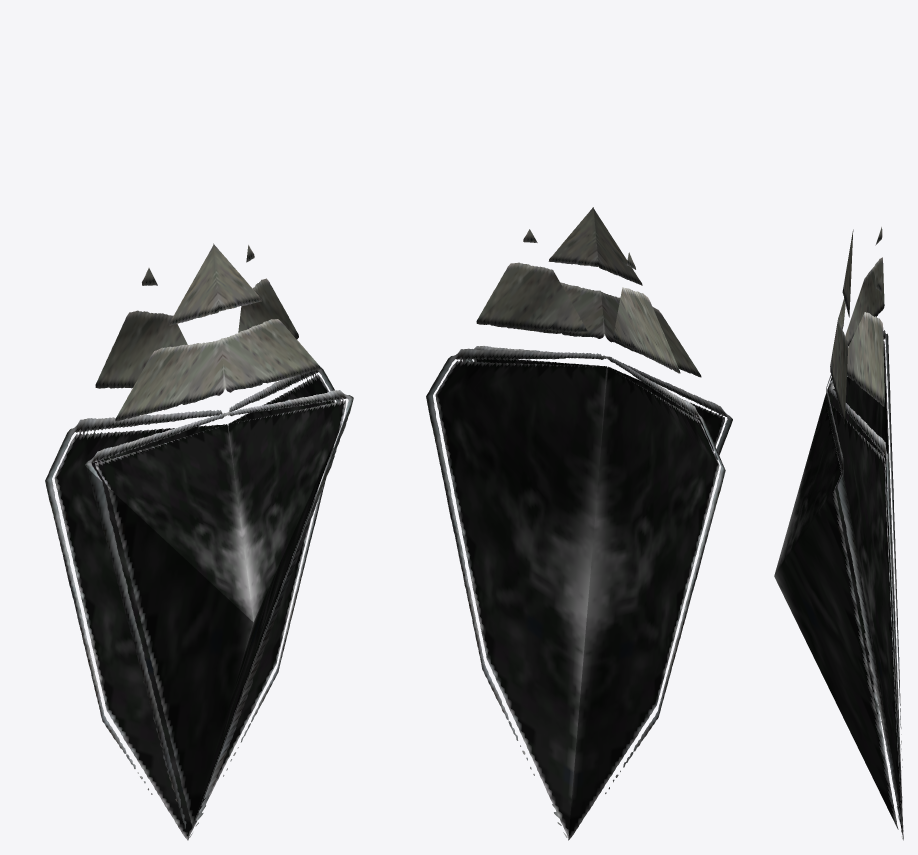
The model's file is earring_s10_l1.fbx.
The picture shows the model from 3 angles, left to right: view 1: azimuth 30°, elevation 25°; view 2: azimuth 150°, elevation 25°; view 3: azimuth 270°, elevation 25°; orthographic projection.
Visible parts, largest first — view 1: mesh_node; view 2: mesh_node; view 3: mesh_node.
Part boxes in pixels (<box>): mesh_node: <box>45,243,353,840</box>; mesh_node: <box>426,207,732,840</box>; mesh_node: <box>774,227,903,840</box>.
Bounding box in the file's own units: 0.0689 × 0.1552 × 0.0221.
